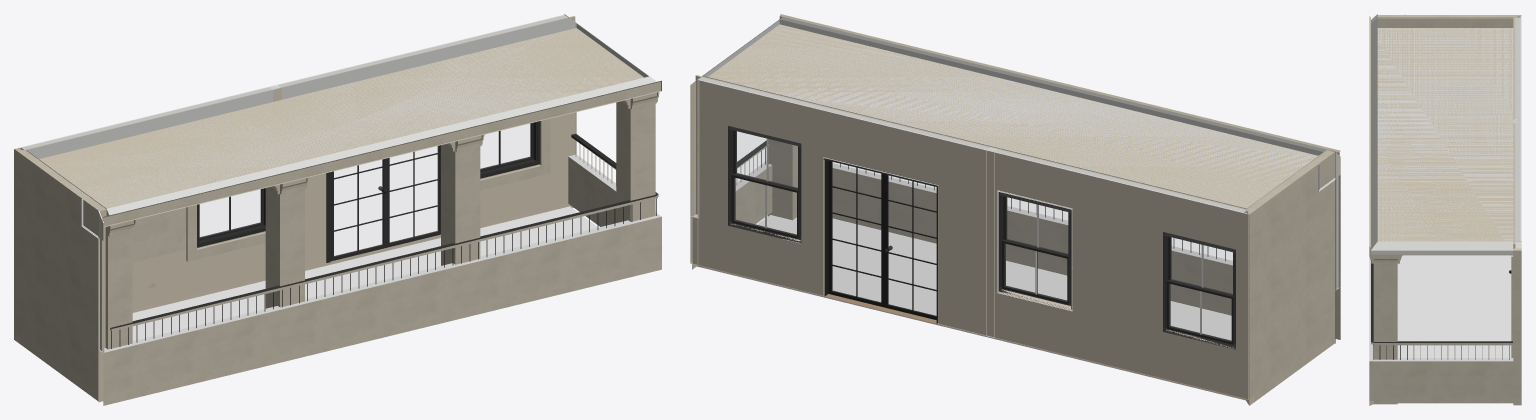
Rendered from front-balcony-997c9e236c7c.glb.
3 renders of one model, left to right at view 1: azimuth 30°, elevation 25°; view 2: azimuth 150°, elevation 25°; view 3: azimuth 270°, elevation 25°, orthographic. The views are drawn at different scales.
Visible parts, largest first — view 1: front-balcony-0ac23dde8d2f7c54, front-balcony-b39baa29700ae605, front-balcony-f6a7cfeba332478b, front-balcony-62353aa10fc57f23, front-balcony-b0ade14315e4f1c3, front-balcony-0987656e6ddb83c1, front-balcony-dbd60ee5c3733ed6, front-balcony-24022e0f0167e9d7, front-balcony-f0f007964d256d2c, front-balcony-771be2dfa886178e, front-balcony-41597b955207c1bc, front-balcony-489e9ad801b4b62e (+7 smaller); view 2: front-balcony-b0ade14315e4f1c3, front-balcony-0ac23dde8d2f7c54, front-balcony-f6a7cfeba332478b, front-balcony-62353aa10fc57f23, front-balcony-0987656e6ddb83c1, front-balcony-b39baa29700ae605, front-balcony-dbd60ee5c3733ed6, front-balcony-e1735639a83d20d7, front-balcony-60f0db96f832035a, front-balcony-b5cb73c07919def8, front-balcony-41597b955207c1bc, front-balcony-dc9de07e6ba3b47a (+3 smaller); view 3: front-balcony-0ac23dde8d2f7c54, front-balcony-f6a7cfeba332478b, front-balcony-dbd60ee5c3733ed6, front-balcony-dc9de07e6ba3b47a, front-balcony-41597b955207c1bc, front-balcony-b0ade14315e4f1c3, front-balcony-62353aa10fc57f23, front-balcony-adb6f49a6d2cbec3, front-balcony-8ce6cdf114d83750, front-balcony-24022e0f0167e9d7, front-balcony-16d9002bc6318568, front-balcony-19165bb3a07bed8e (+3 smaller).
Part boxes in pixels (x1=…): front-balcony-0ac23dde8d2f7c54: x1=26, y1=18, x2=656, y2=215; front-balcony-b39baa29700ae605: x1=98, y1=216, x2=661, y2=405; front-balcony-f6a7cfeba332478b: x1=45, y1=29, x2=641, y2=207; front-balcony-62353aa10fc57f23: x1=14, y1=149, x2=106, y2=401; front-balcony-b0ade14315e4f1c3: x1=15, y1=15, x2=575, y2=309; front-balcony-0987656e6ddb83c1: x1=326, y1=145, x2=440, y2=262; front-balcony-dbd60ee5c3733ed6: x1=132, y1=206, x2=597, y2=340; front-balcony-24022e0f0167e9d7: x1=102, y1=80, x2=661, y2=227; front-balcony-f0f007964d256d2c: x1=265, y1=187, x2=304, y2=308; front-balcony-771be2dfa886178e: x1=441, y1=144, x2=480, y2=265; front-balcony-41597b955207c1bc: x1=616, y1=102, x2=655, y2=222; front-balcony-489e9ad801b4b62e: x1=105, y1=226, x2=132, y2=349; front-balcony-b0ade14315e4f1c3: x1=692, y1=75, x2=1248, y2=399; front-balcony-0ac23dde8d2f7c54: x1=702, y1=17, x2=1327, y2=209; front-balcony-f6a7cfeba332478b: x1=710, y1=24, x2=1317, y2=207; front-balcony-62353aa10fc57f23: x1=1246, y1=150, x2=1334, y2=405; front-balcony-0987656e6ddb83c1: x1=823, y1=158, x2=938, y2=323; front-balcony-b39baa29700ae605: x1=832, y1=163, x2=1340, y2=343; front-balcony-dbd60ee5c3733ed6: x1=702, y1=215, x2=1245, y2=400; front-balcony-e1735639a83d20d7: x1=728, y1=126, x2=801, y2=242; front-balcony-60f0db96f832035a: x1=1163, y1=232, x2=1235, y2=349; front-balcony-b5cb73c07919def8: x1=998, y1=192, x2=1071, y2=308; front-balcony-41597b955207c1bc: x1=767, y1=139, x2=797, y2=220; front-balcony-dc9de07e6ba3b47a: x1=735, y1=161, x2=772, y2=224; front-balcony-0ac23dde8d2f7c54: x1=1371, y1=17, x2=1513, y2=254; front-balcony-f6a7cfeba332478b: x1=1371, y1=28, x2=1513, y2=255; front-balcony-dbd60ee5c3733ed6: x1=1397, y1=255, x2=1513, y2=403; front-balcony-dc9de07e6ba3b47a: x1=1369, y1=358, x2=1513, y2=400; front-balcony-41597b955207c1bc: x1=1373, y1=264, x2=1397, y2=404; front-balcony-b0ade14315e4f1c3: x1=1513, y1=15, x2=1521, y2=400; front-balcony-62353aa10fc57f23: x1=1377, y1=15, x2=1521, y2=27; front-balcony-adb6f49a6d2cbec3: x1=1513, y1=249, x2=1521, y2=361; front-balcony-8ce6cdf114d83750: x1=1373, y1=341, x2=1512, y2=345; front-balcony-24022e0f0167e9d7: x1=1369, y1=16, x2=1370, y2=255; front-balcony-16d9002bc6318568: x1=1514, y1=361, x2=1521, y2=400; front-balcony-19165bb3a07bed8e: x1=1511, y1=255, x2=1513, y2=357.
Size of the model in its own units: 9.14 by 3 by 2.55.
22 materials, 6 textured.
